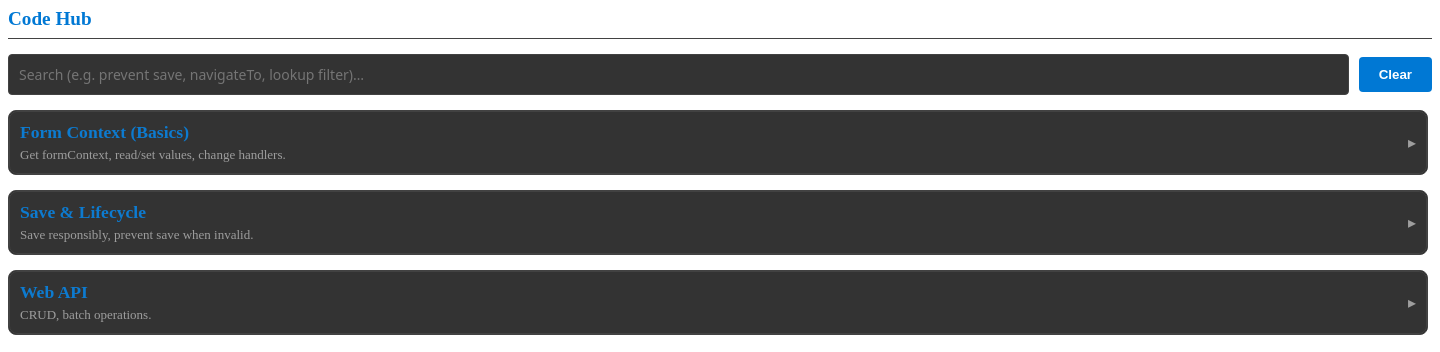
Test case: CodeHubTab › clear button functionality › should clear search input when clicked
Type "test search" into the field with id "codehub-search" at x=678, y=74, box [8, 54, 1349, 95]
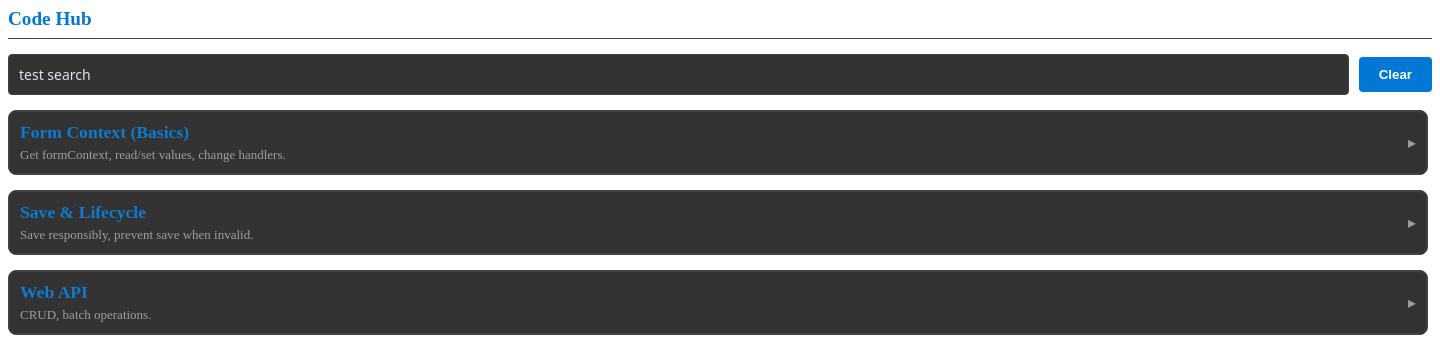
Click the button with id "codehub-clear" at x=1395, y=74, box [1359, 57, 1432, 92]
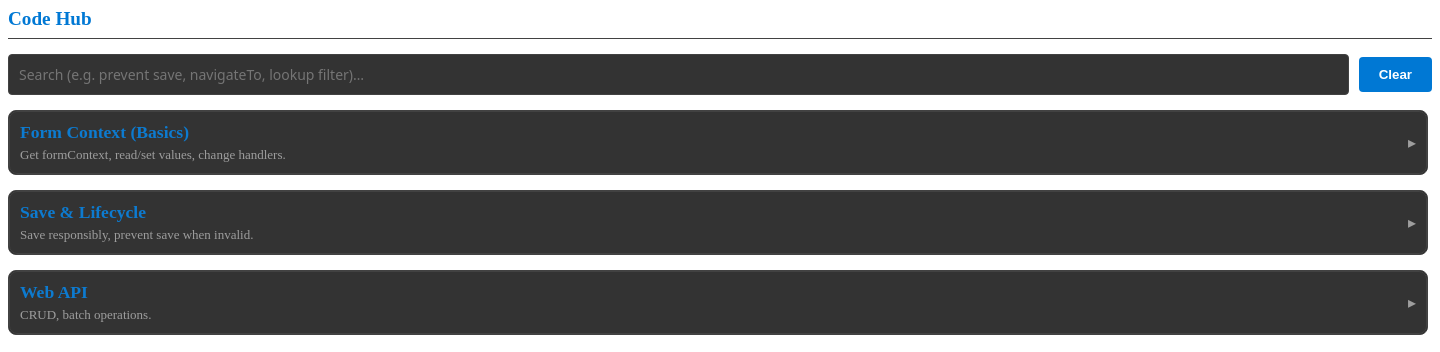
Expected: the field with id "codehub-search" is empty, [8, 54, 1349, 95]
